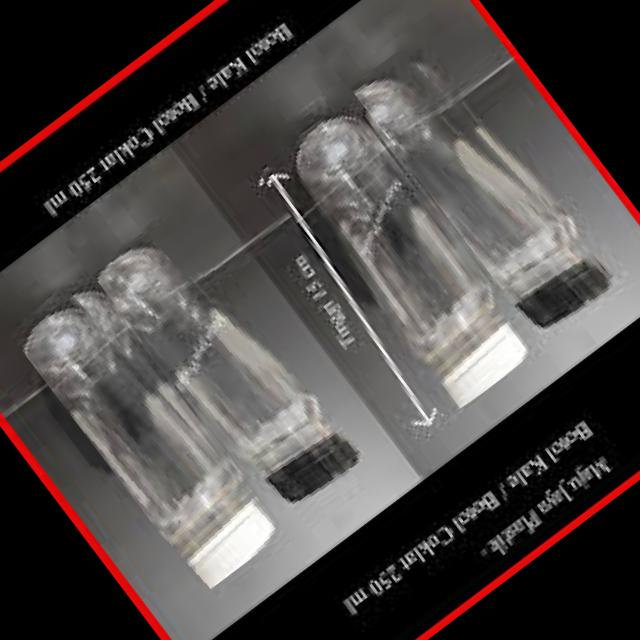plastic bottle: (92, 200, 386, 536), (348, 28, 636, 364), (252, 94, 537, 420), (4, 266, 285, 593)
